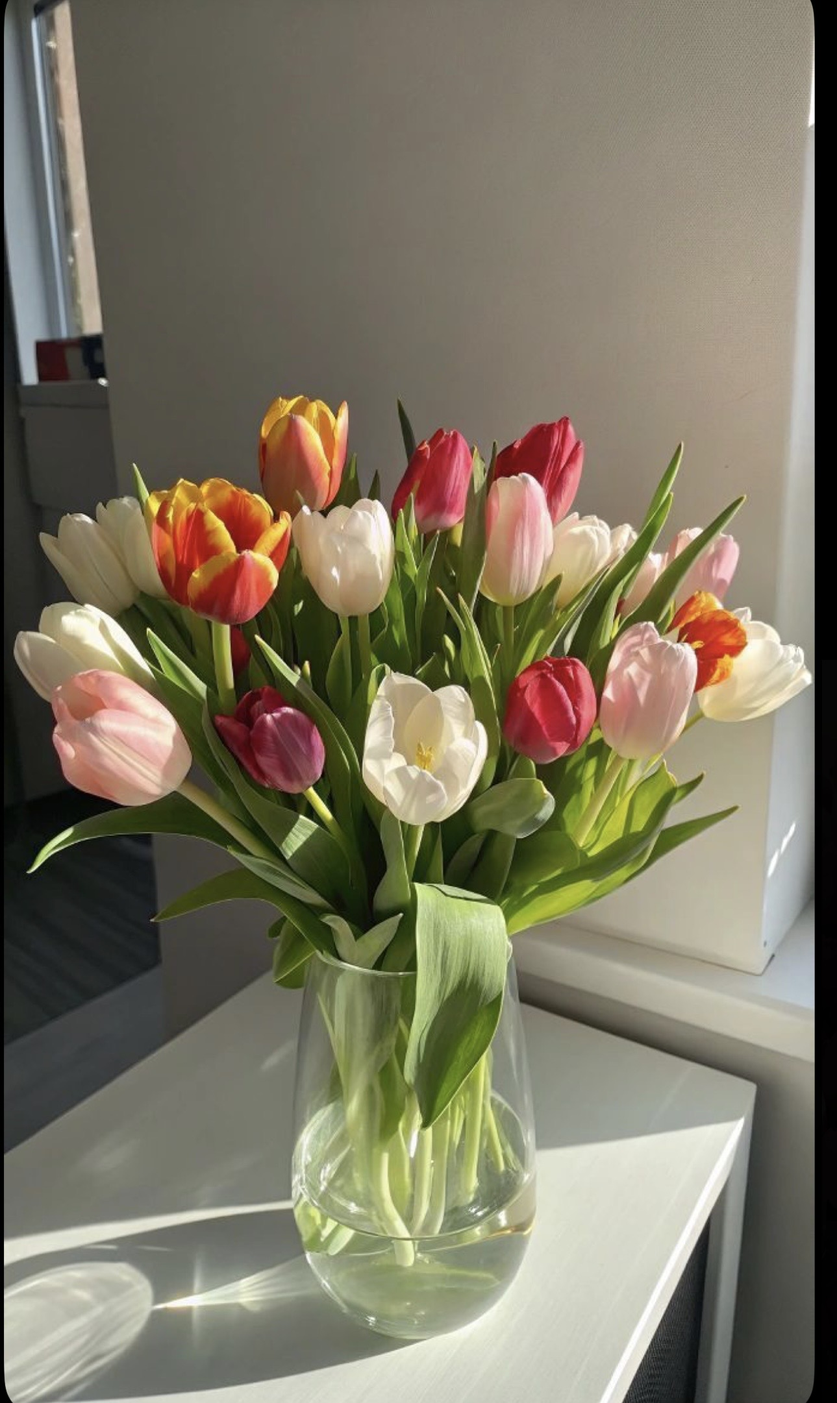tulip: (144, 467, 295, 635), (35, 663, 200, 816), (356, 665, 490, 832), (7, 597, 170, 714), (457, 467, 562, 626), (690, 603, 815, 731), (205, 672, 329, 800), (596, 616, 700, 765), (286, 491, 401, 619), (253, 389, 355, 533), (614, 520, 750, 626), (479, 408, 587, 537), (497, 643, 600, 778), (388, 409, 480, 551), (39, 503, 147, 616), (523, 502, 616, 631), (656, 584, 746, 710), (125, 489, 179, 607)
